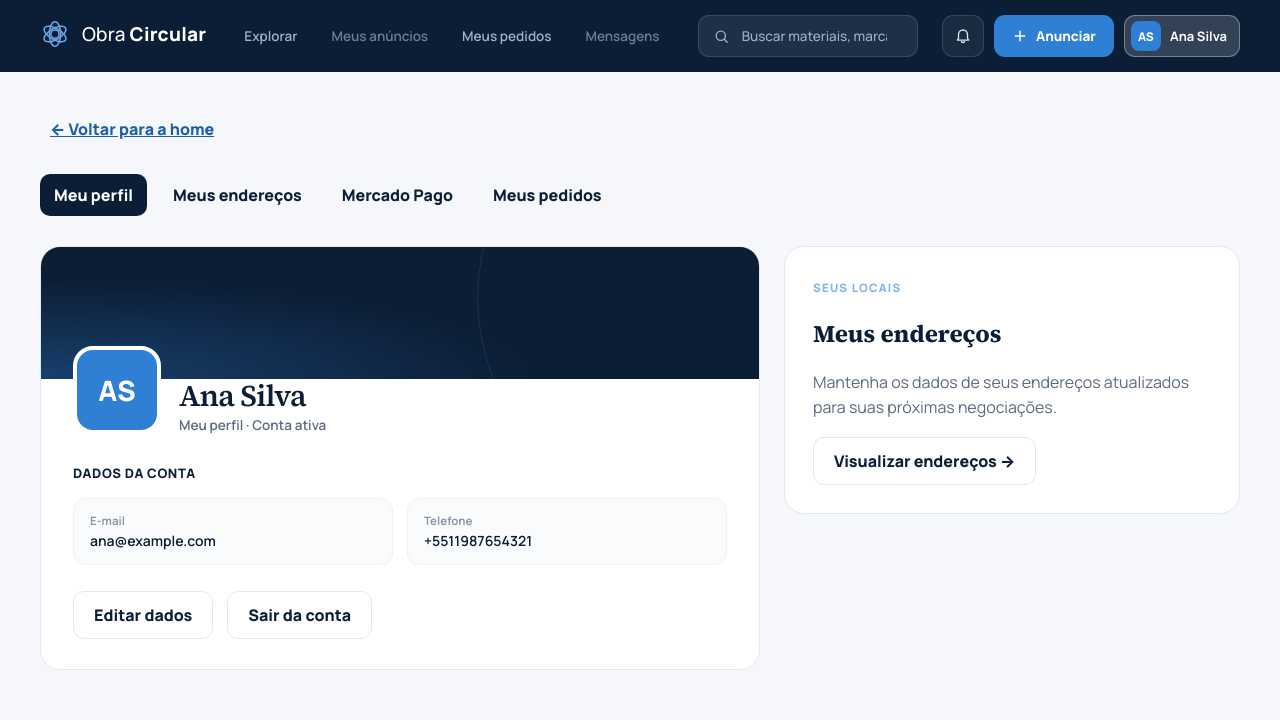
informa e-mail duplicado, preserva o formulário e não altera a sessão
Click the button "Editar dados": (143, 615) top-left (73, 591), bottom-right (213, 639)
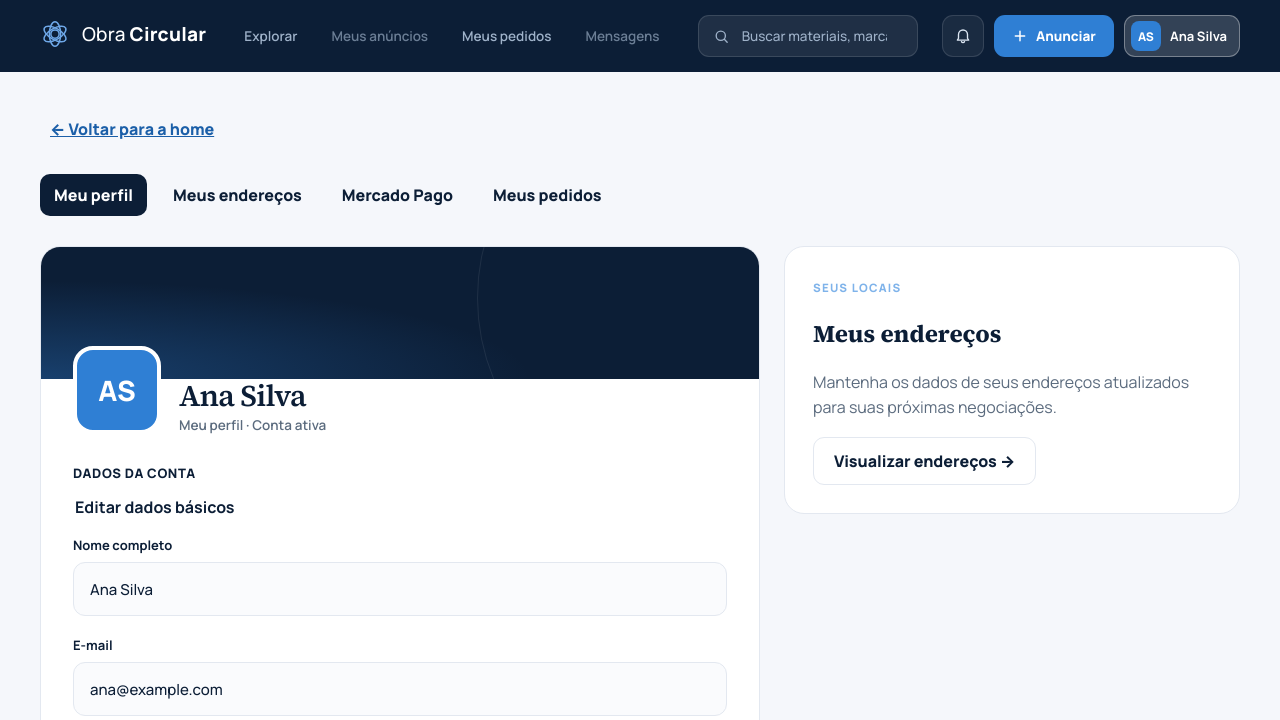
Replace the text in the field labelled "E-mail" with "outra@example.com": (400, 689) top-left (90, 663), bottom-right (710, 715)
(page scrolled)
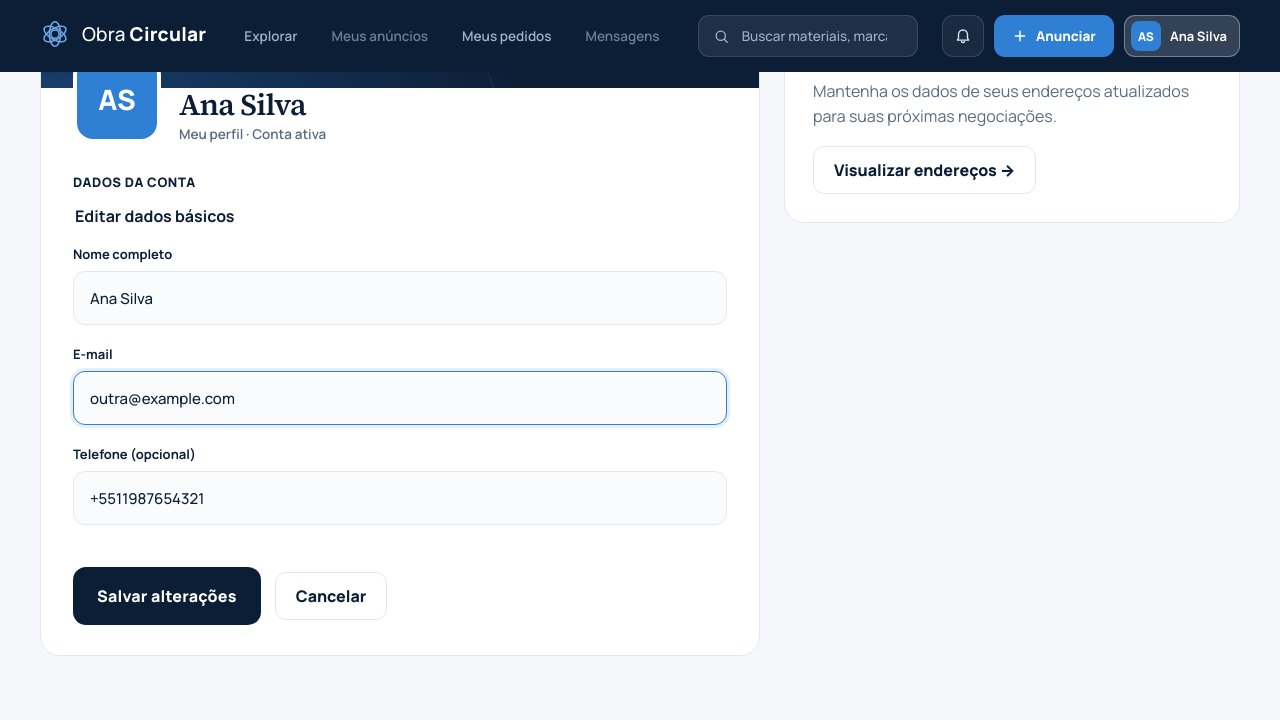
Click the button "Salvar alterações": (167, 596) top-left (73, 567), bottom-right (261, 625)
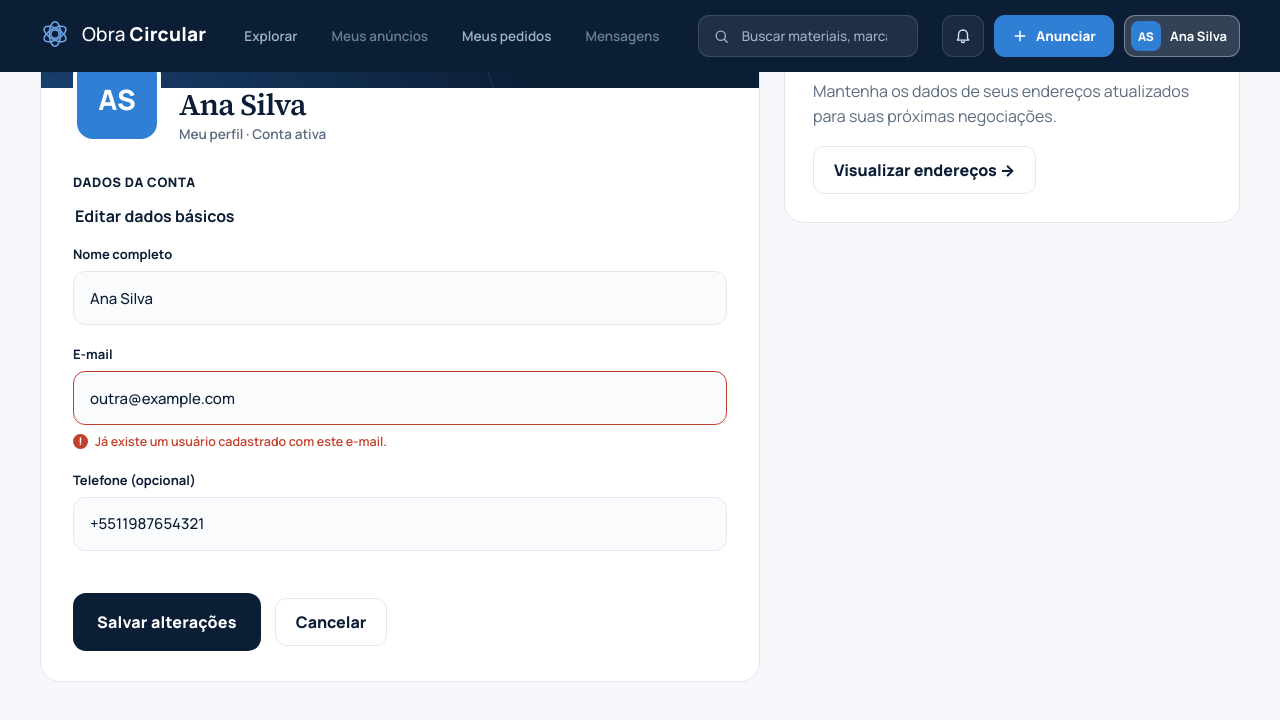
Result: the text "Já existe um usuário cadastrado com este e-mail." is shown at top-left (95, 433), bottom-right (387, 450)
